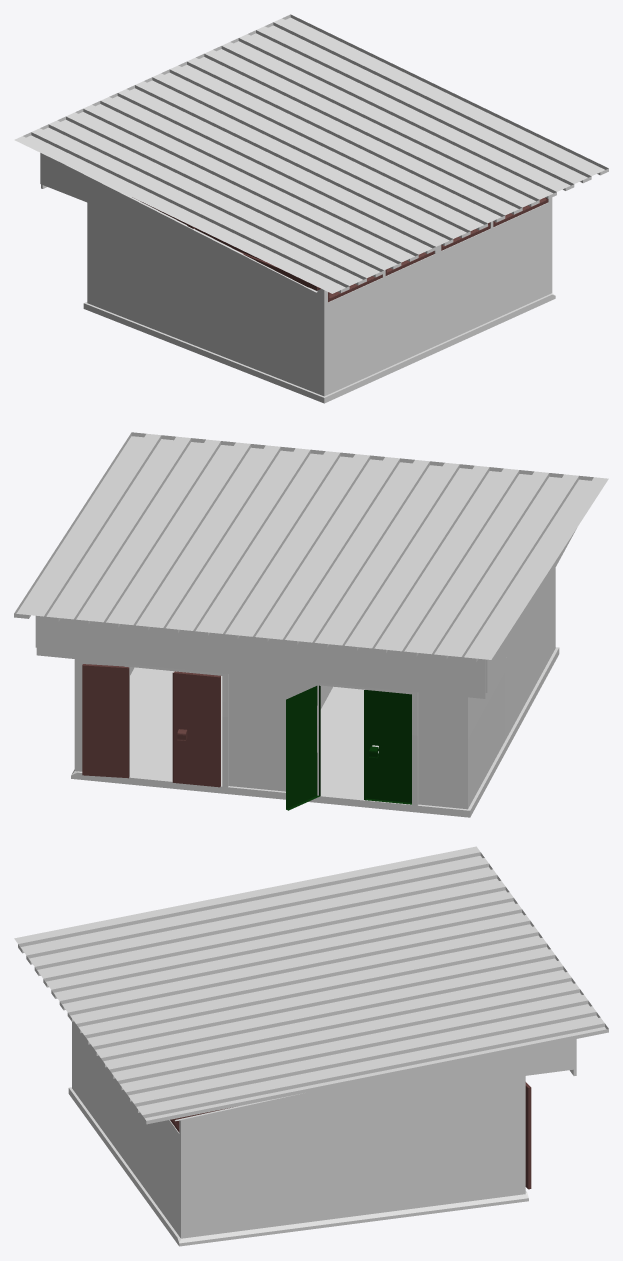
File: kibanda.fbx
3 renders of one model, top to bottom at view 1: azimuth 30°, elevation 25°; view 2: azimuth 150°, elevation 25°; view 3: azimuth 270°, elevation 25°, orthographic. The views are drawn at different scales.
Parts seen in each view (by area): view 1: roof.002; view 2: roof.002; view 3: roof.002.
Boxes of the visible parts, x1,y1,x2,y2 form: roof.002: (14, 14, 608, 403); roof.002: (14, 432, 608, 817); roof.002: (14, 846, 608, 1246).
Size of the model in its own units: 188 by 64.42 by 195.
